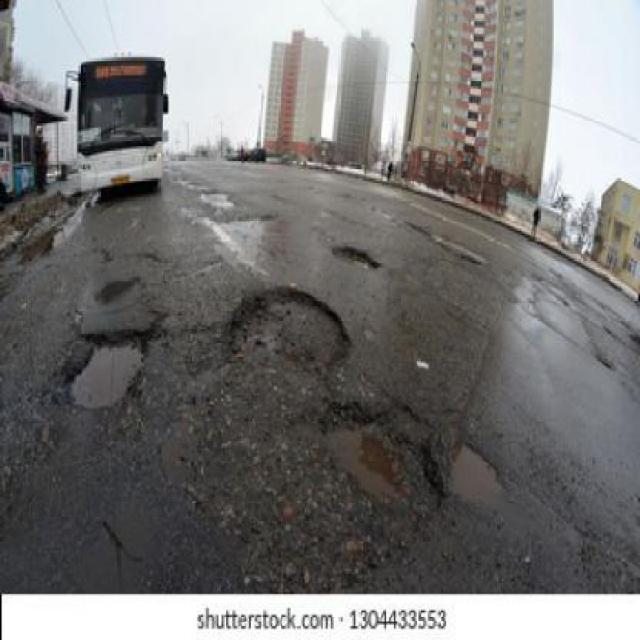Pothole: (224, 282, 354, 383), (312, 402, 417, 512), (66, 329, 151, 414), (443, 436, 503, 506), (331, 242, 384, 274)
